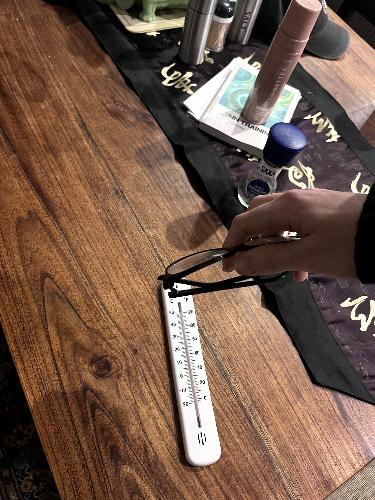thermo: (161, 275, 223, 466)
